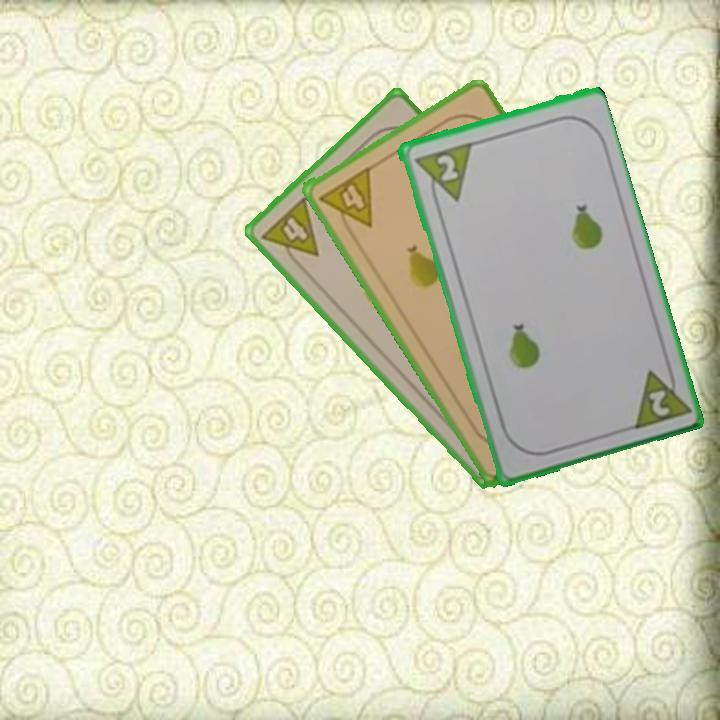2p: (627, 359, 691, 433), (409, 138, 474, 209)
4p: (258, 192, 322, 273), (315, 163, 376, 240)
